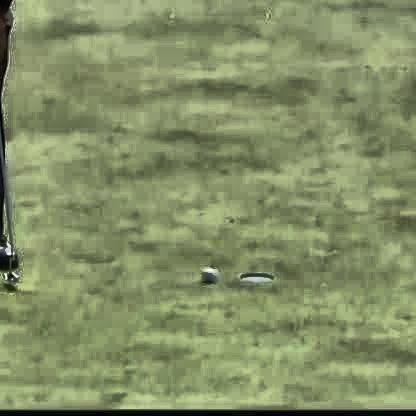golfball: (199, 265, 215, 281)
